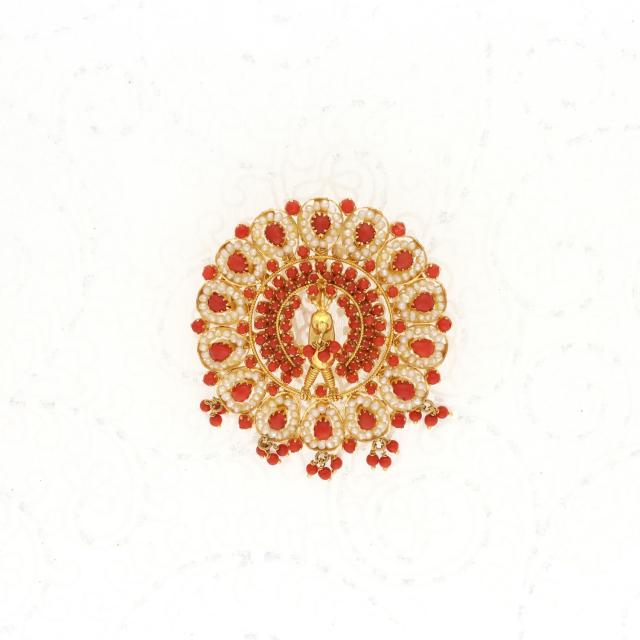missing gem: (317, 279, 326, 288)
